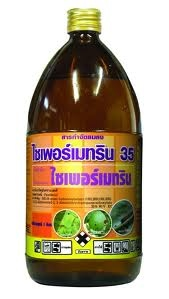Insecticide: (23, 3, 144, 289)
